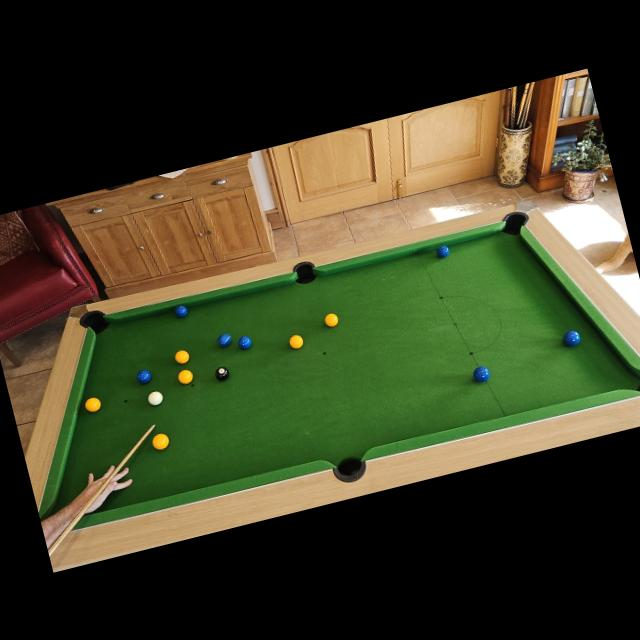Ball: (560, 329, 582, 349), (471, 364, 491, 383), (151, 432, 170, 451), (83, 396, 102, 413), (177, 367, 194, 385), (216, 331, 234, 348), (173, 347, 190, 364), (213, 365, 230, 382), (135, 368, 152, 385), (288, 333, 305, 350), (146, 390, 164, 406), (323, 311, 339, 328), (237, 334, 253, 350), (436, 243, 450, 259), (174, 303, 188, 317)
